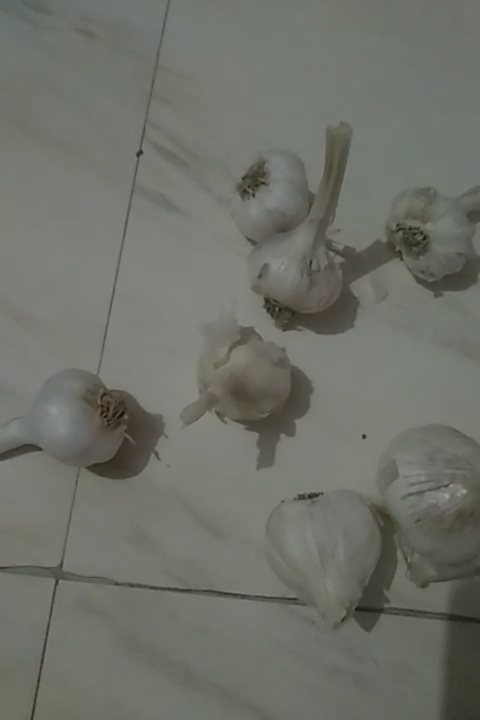garlic: (264, 488, 383, 629), (12, 367, 142, 491), (383, 418, 480, 560), (172, 325, 305, 424), (393, 174, 480, 292), (254, 215, 344, 314), (238, 149, 311, 238)
